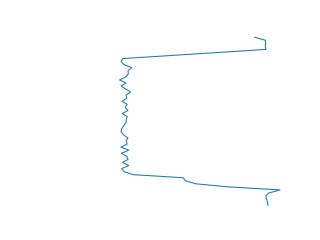distributaryChannelFill: (113, 36, 287, 205)
